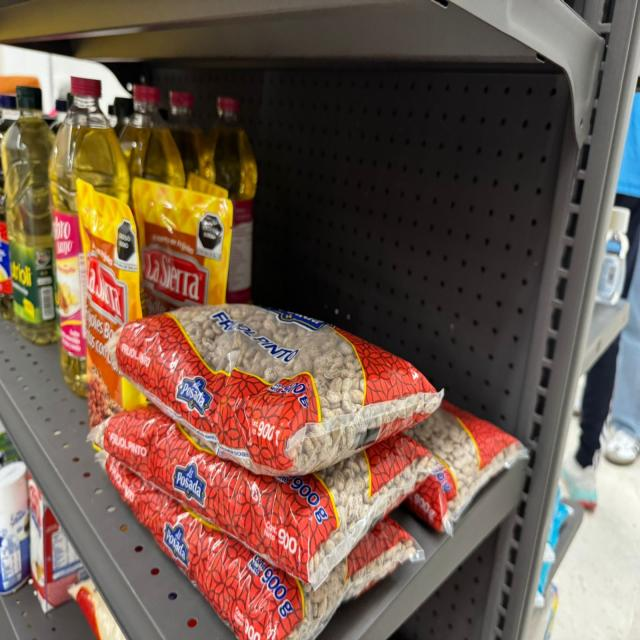Frijol La Sierra Chorizo 430 bolsa: (50, 78, 129, 397), (76, 179, 146, 425), (133, 179, 233, 308), (49, 81, 129, 214)
Frijol Pinto La Posada 900gr: (94, 408, 444, 587), (101, 457, 421, 639), (101, 305, 443, 475), (406, 401, 526, 534)
La Lechera Sirve Facil 335gr Bote: (0, 461, 30, 595)
